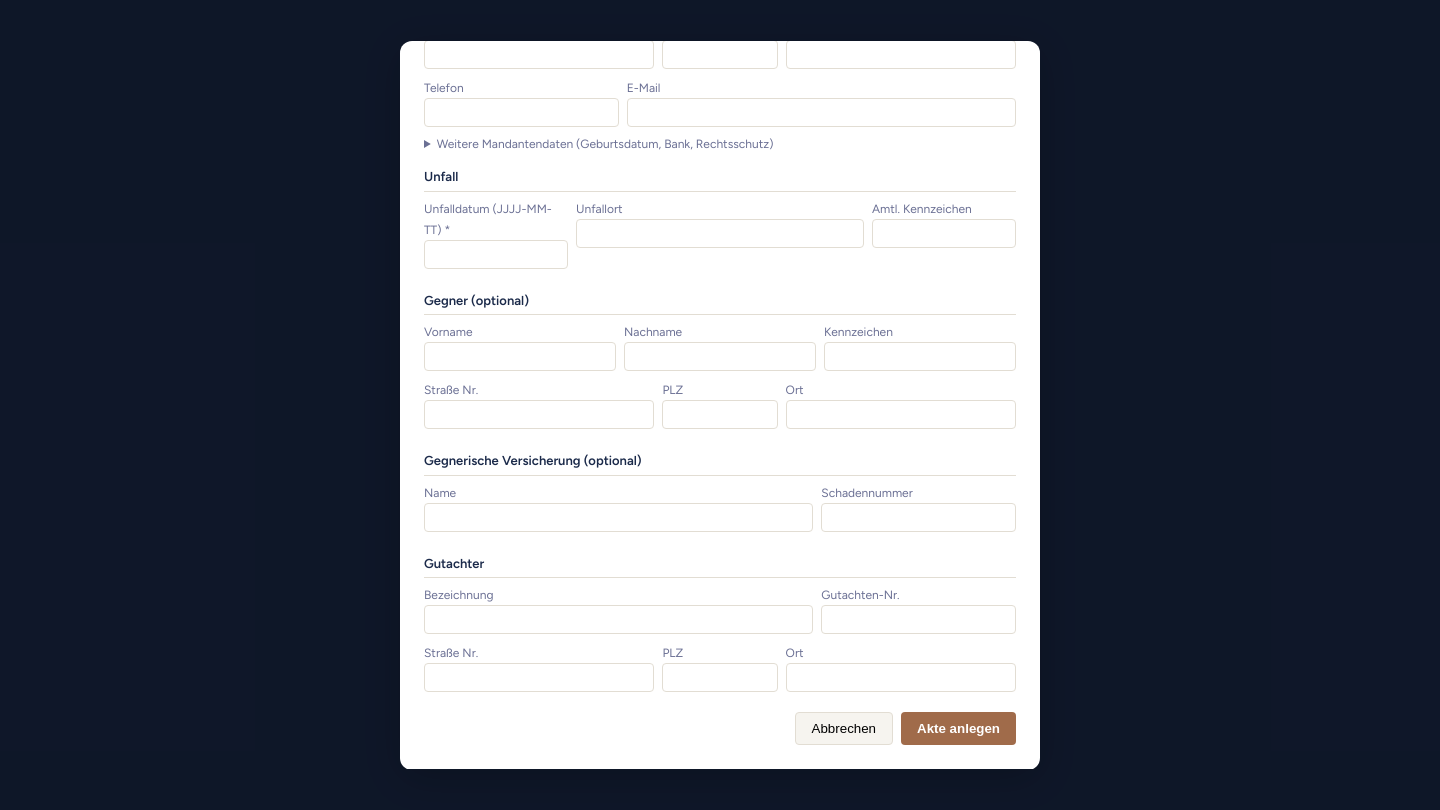
Test: AktenanlageDialog Rendering › zeigt Pflichtfeld-Fehler bei leerem Formular, ohne offen-Aufruf
(page scrolled)
Click the button "Akte anlegen" at (958, 728), box [901,712,1016,745]
(page scrolled)
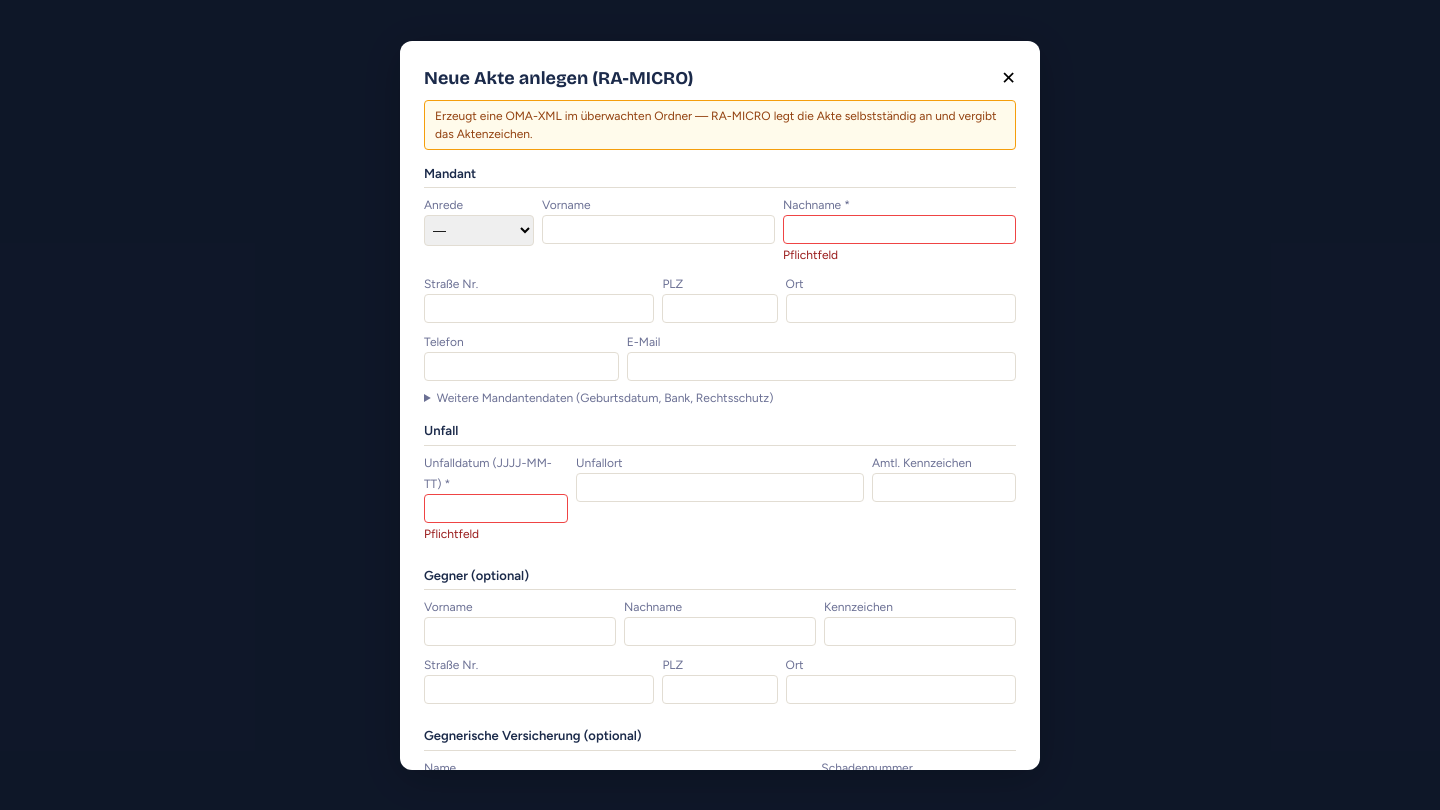
Check: the 1st text "Pflichtfeld" is shown, box [783,248,838,262]
